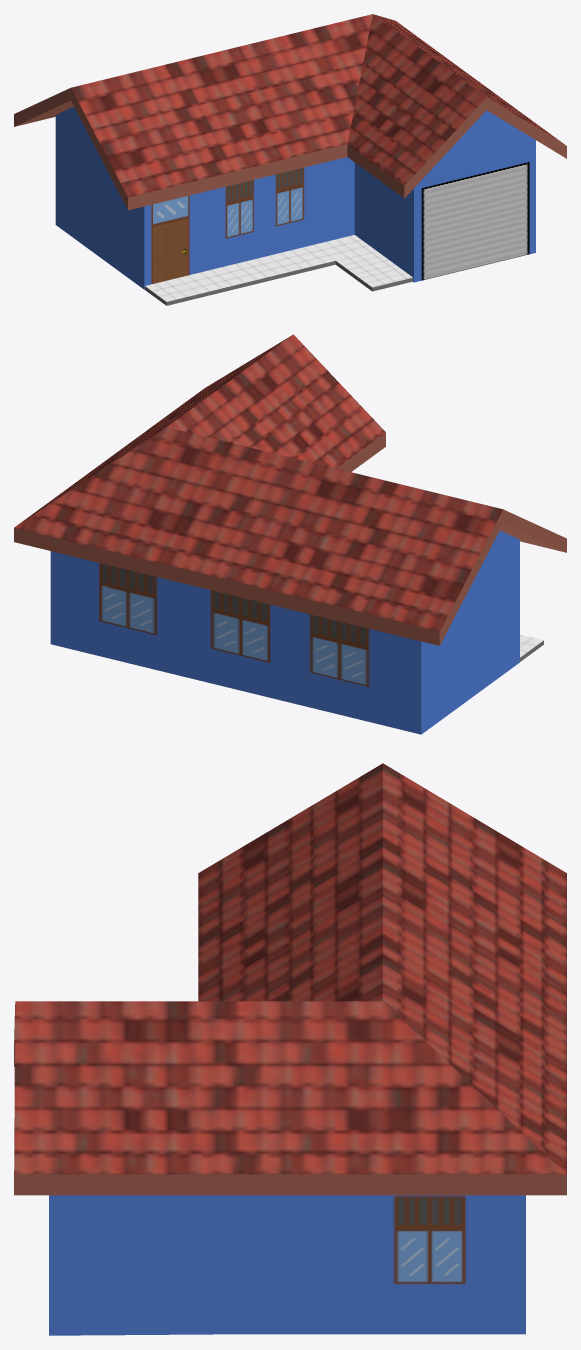
The model's file is house_blue 1.fbx.
The picture shows the model from 3 angles, top to bottom: view 1: azimuth 30°, elevation 25°; view 2: azimuth 150°, elevation 25°; view 3: azimuth 270°, elevation 25°; orthographic projection. The views are drawn at different scales.
Parts seen in each view (by area): view 1: rumah, genteng.001, genteng.002, Plane; view 2: genteng.001, rumah, genteng.002, Plane; view 3: genteng.002, genteng.001, rumah.
Part boxes in pixels (x1,y1,x2,y2): rumah: (55, 107, 535, 289); genteng.001: (14, 14, 372, 210); genteng.002: (347, 14, 566, 198); Plane: (145, 235, 413, 305); genteng.001: (14, 427, 566, 645); rumah: (50, 530, 519, 734); genteng.002: (17, 334, 385, 525); Plane: (53, 634, 543, 734); genteng.002: (14, 1001, 566, 1195); genteng.001: (14, 763, 566, 1173); rumah: (49, 1195, 525, 1335).
Size of the model in its own units: 1520 by 676 by 1180.
Materials: 4 (4 with a texture image).
